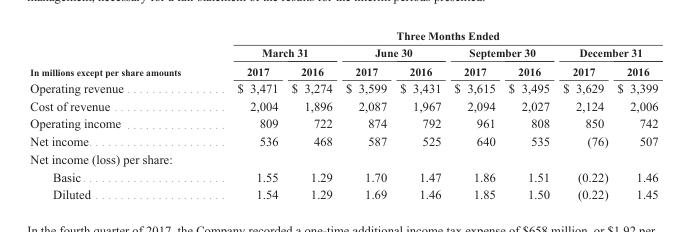table: (29, 29, 657, 200)
table column: (29, 29, 208, 200), (208, 29, 284, 200), (555, 29, 612, 200), (392, 29, 447, 200), (284, 29, 338, 200), (338, 29, 392, 200), (447, 29, 501, 200), (501, 29, 555, 200), (612, 29, 657, 200)
table column header: (29, 29, 657, 79)
table projected row header: (29, 149, 657, 167)
table row: (29, 43, 657, 61), (29, 61, 657, 79), (29, 96, 657, 114), (29, 114, 657, 132), (29, 149, 657, 167), (29, 167, 657, 185), (29, 79, 657, 96), (29, 132, 657, 149), (29, 185, 657, 200), (29, 29, 657, 43)
table spanning cell: (29, 29, 208, 79), (208, 29, 657, 43), (208, 43, 338, 61), (338, 43, 447, 61), (447, 43, 555, 61), (555, 43, 657, 61)
